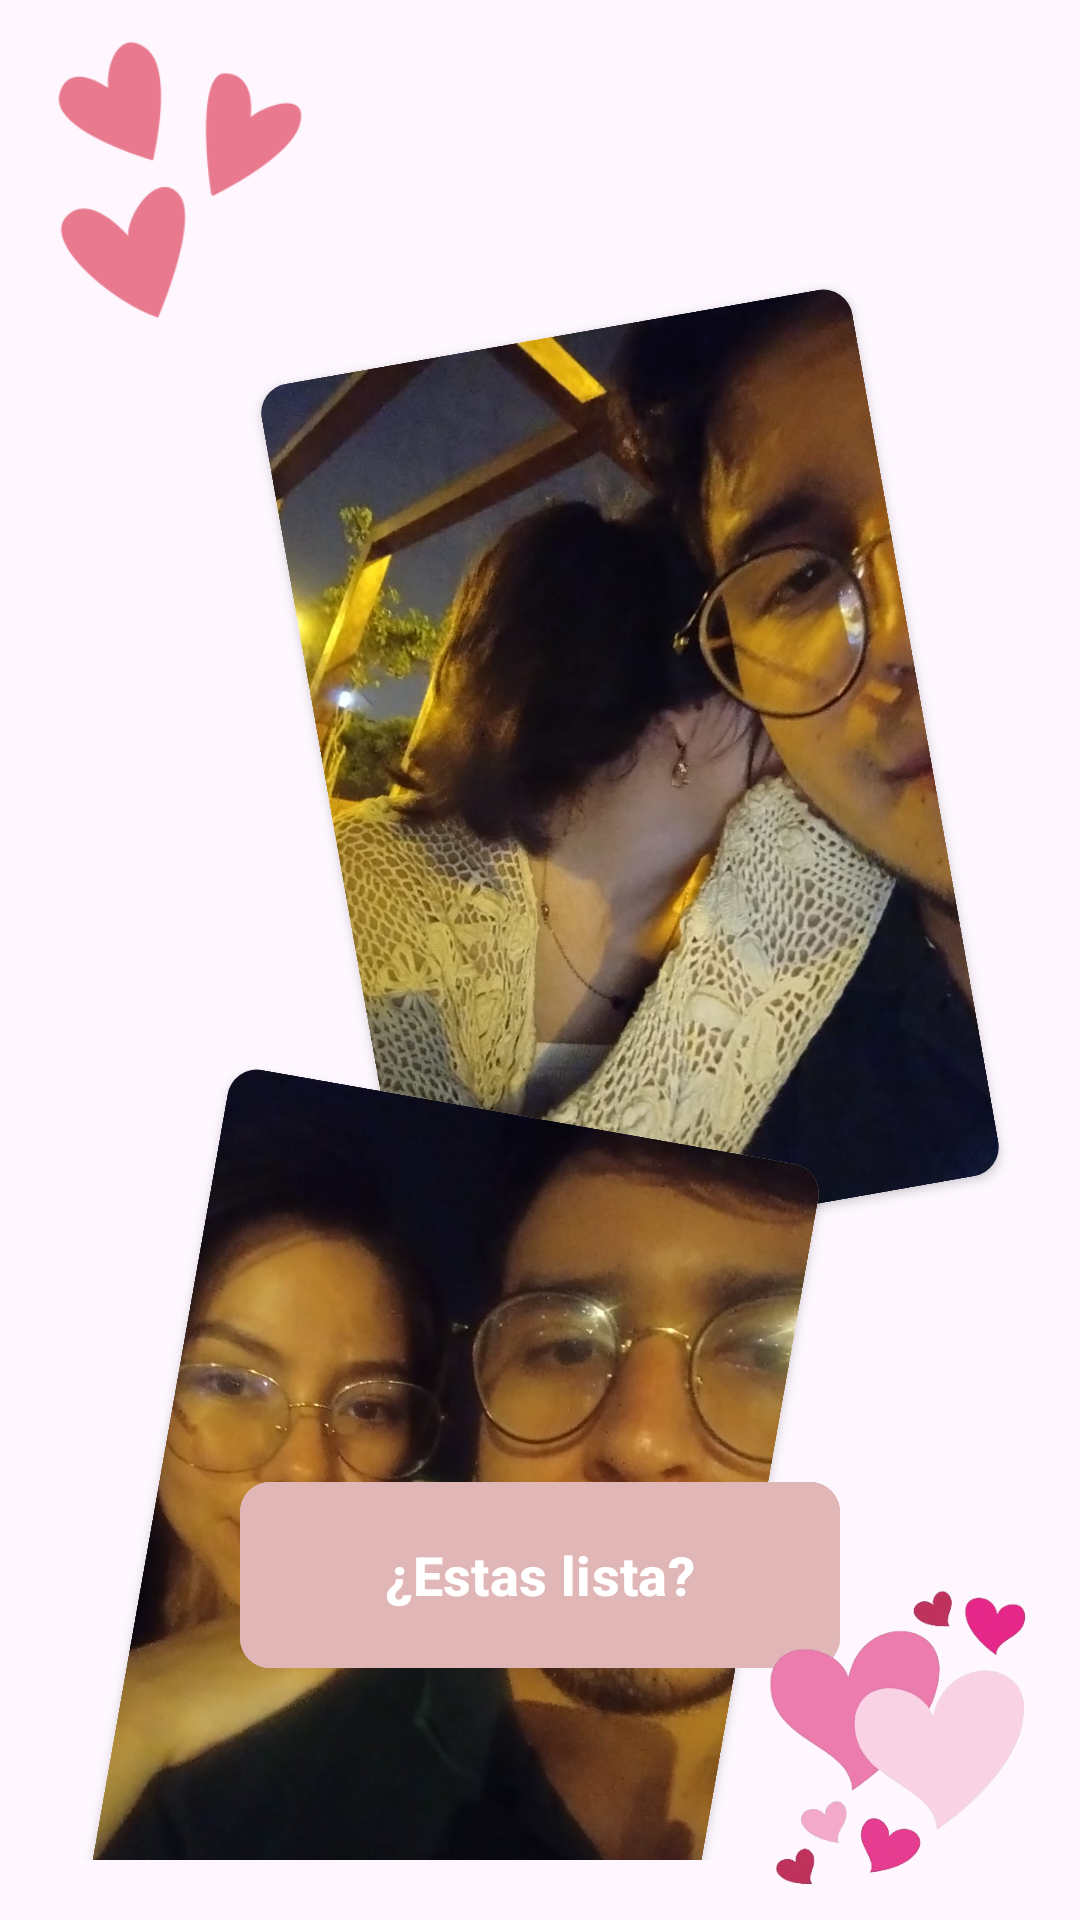

Screen size 1080px×1920px. Icon name, then its box in pixels as (x1, y1, x2, y2):
corazones: (58, 42, 302, 318), (750, 1590, 1026, 1884)
